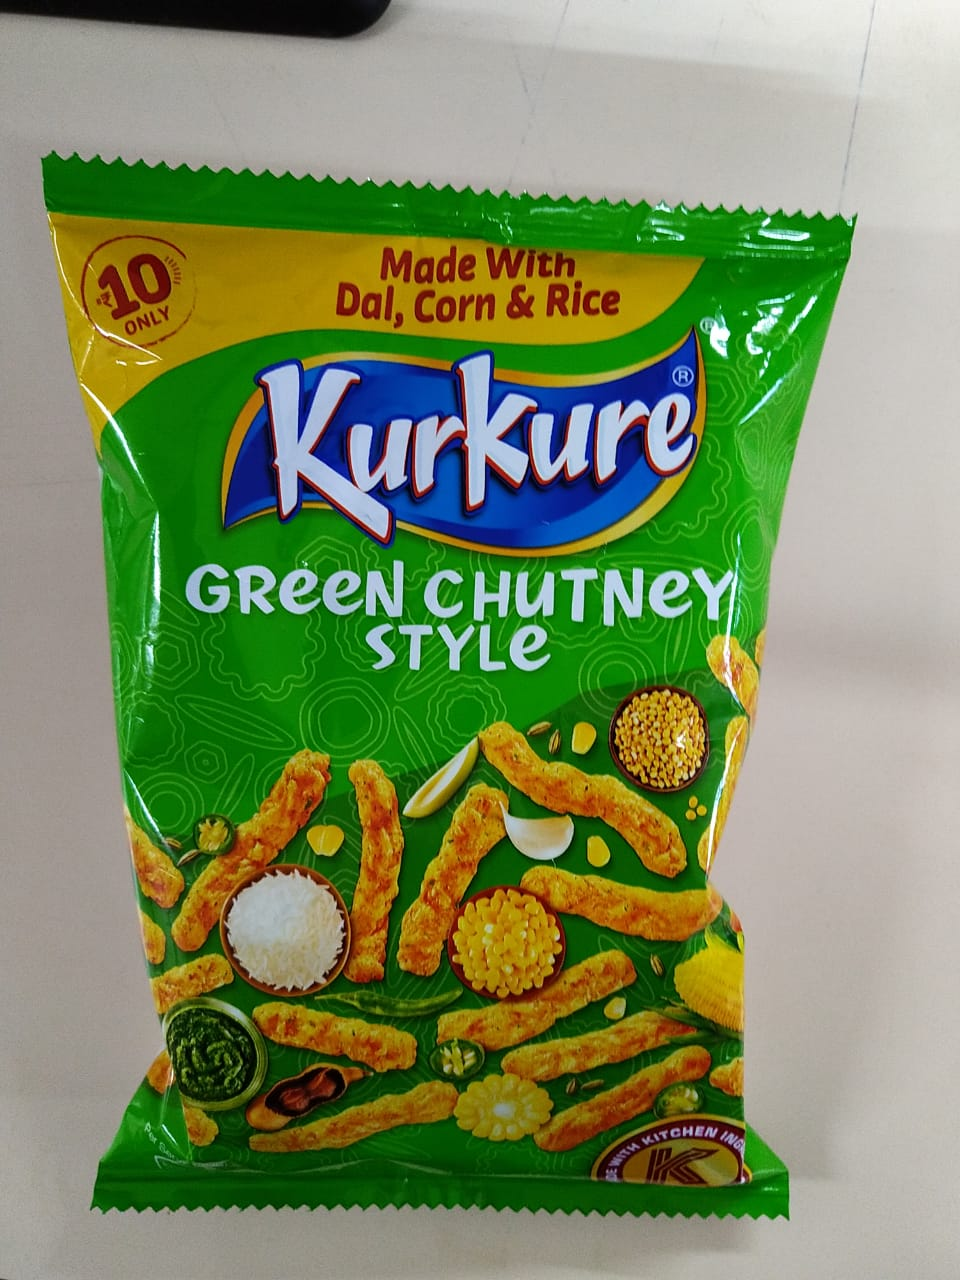kurkure: (194, 287, 743, 565), (382, 313, 714, 557), (221, 332, 531, 561), (321, 383, 702, 559)
plastic: (78, 187, 827, 1215)
wrapper: (39, 132, 814, 1231)
